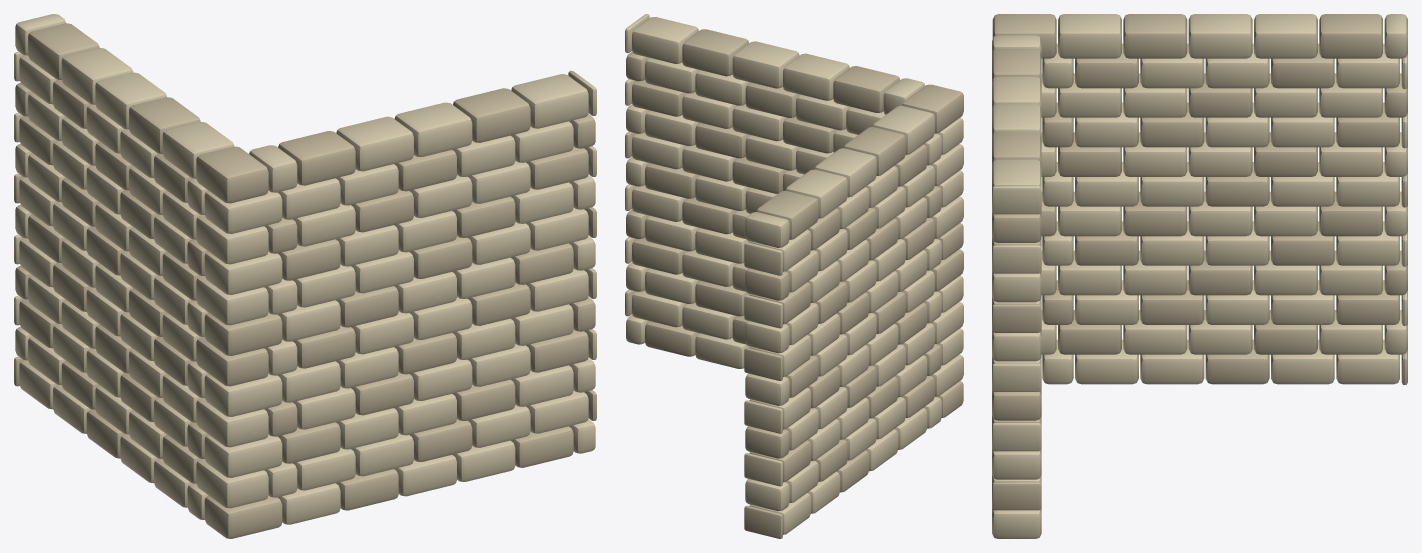
The model's file is build_walll.glb.
The picture shows the model from 3 angles, left to right: view 1: azimuth 30°, elevation 25°; view 2: azimuth 150°, elevation 25°; view 3: azimuth 270°, elevation 25°; orthographic projection. The views are drawn at different scales.
Parts seen in each view (by area): view 1: WallL; view 2: WallL; view 3: WallL.
Boxes of the visible parts, x1=… form: WallL: x1=14, y1=14, x2=596, y2=538; WallL: x1=625, y1=14, x2=963, y2=538; WallL: x1=992, y1=14, x2=1407, y2=538.
Size of what is drawn, in the model's own units: 3.18 by 2.99 by 3.18.
